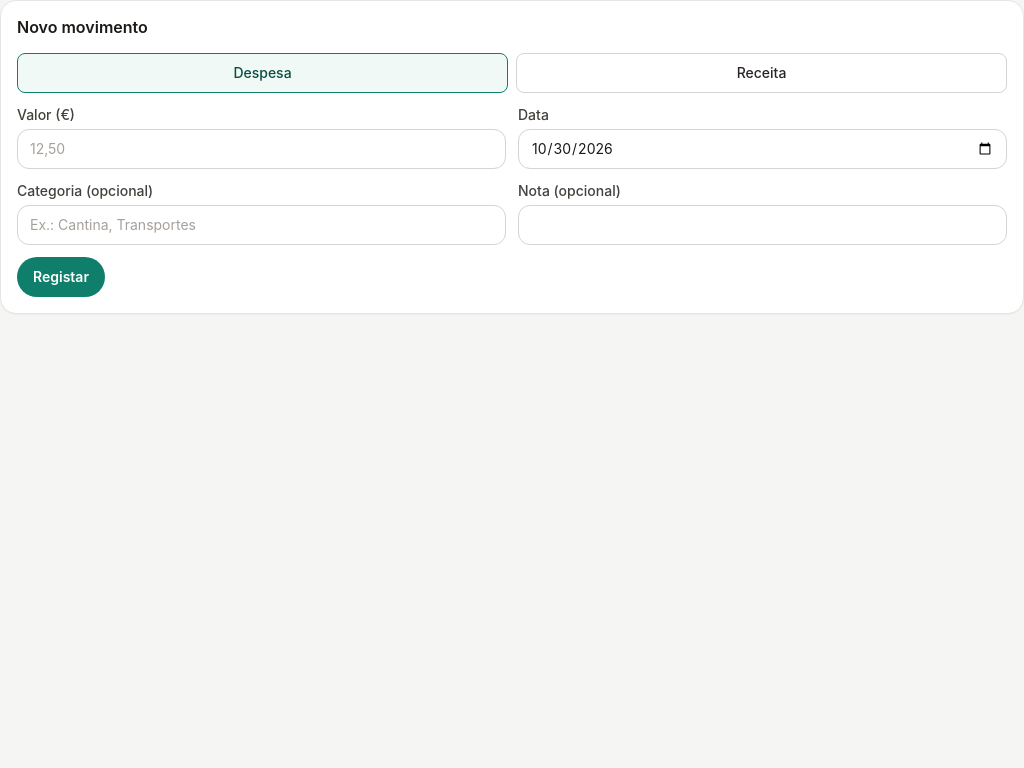
lê «12,5» como 1250 cêntimos e recusa um valor que não é dinheiro
The width and height of the screenshot is (1024, 768).
Type "doze" into the field labelled "Valor (€)" at [262, 149], box x1=17 y1=129 x2=506 y2=169
Click the button "Registar" at [61, 277], box x1=17 y1=257 x2=105 y2=297
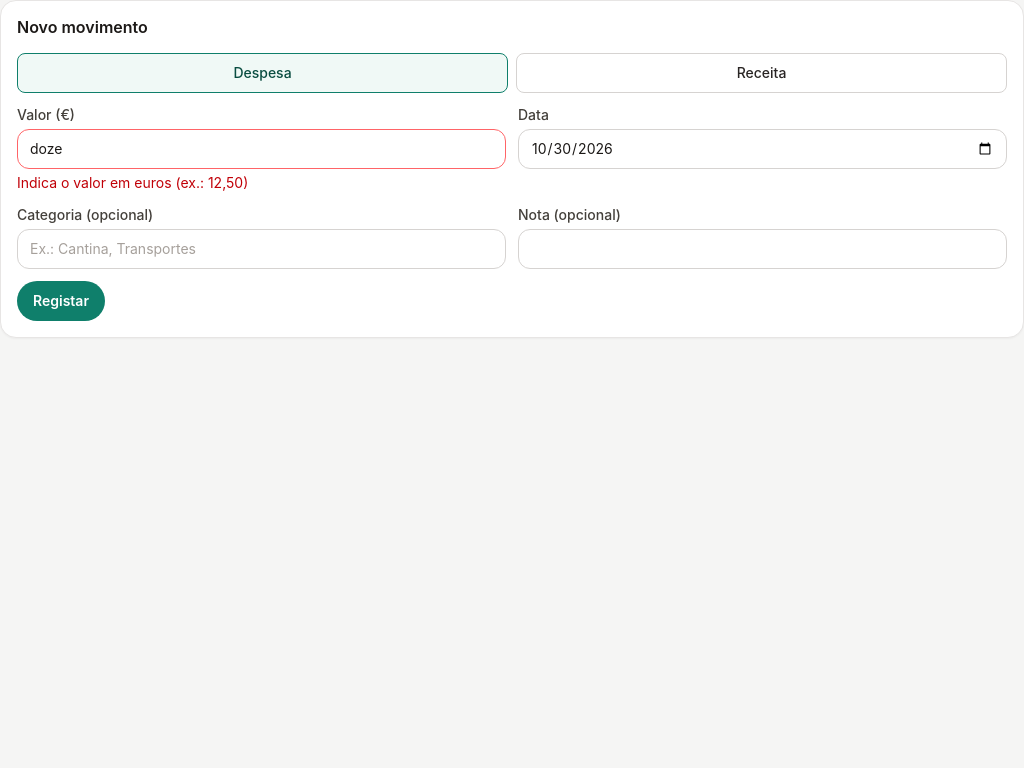
Now the text "Indica o valor em euros (ex.: 12,50)" is shown, box x1=17 y1=174 x2=248 y2=191
Click the radio button labelled "Receita" at [762, 73], box x1=516 y1=53 x2=1007 y2=93
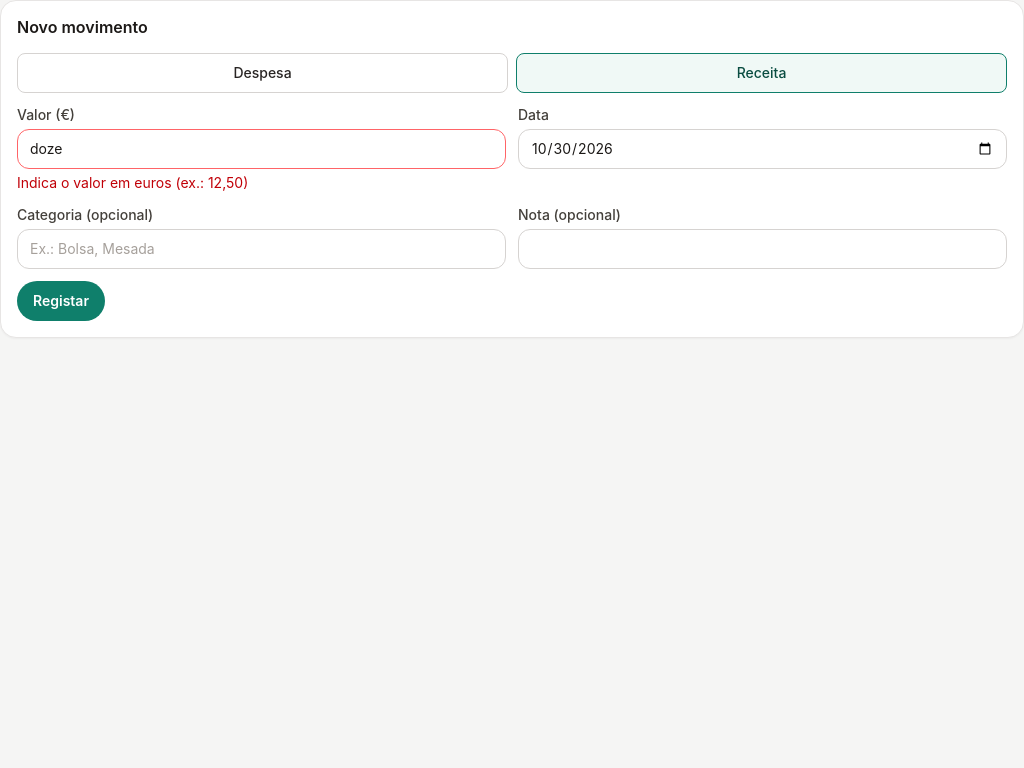
Replace the text in the field labelled "Valor (€)" with "12,5" at [262, 149], box x1=17 y1=129 x2=506 y2=169
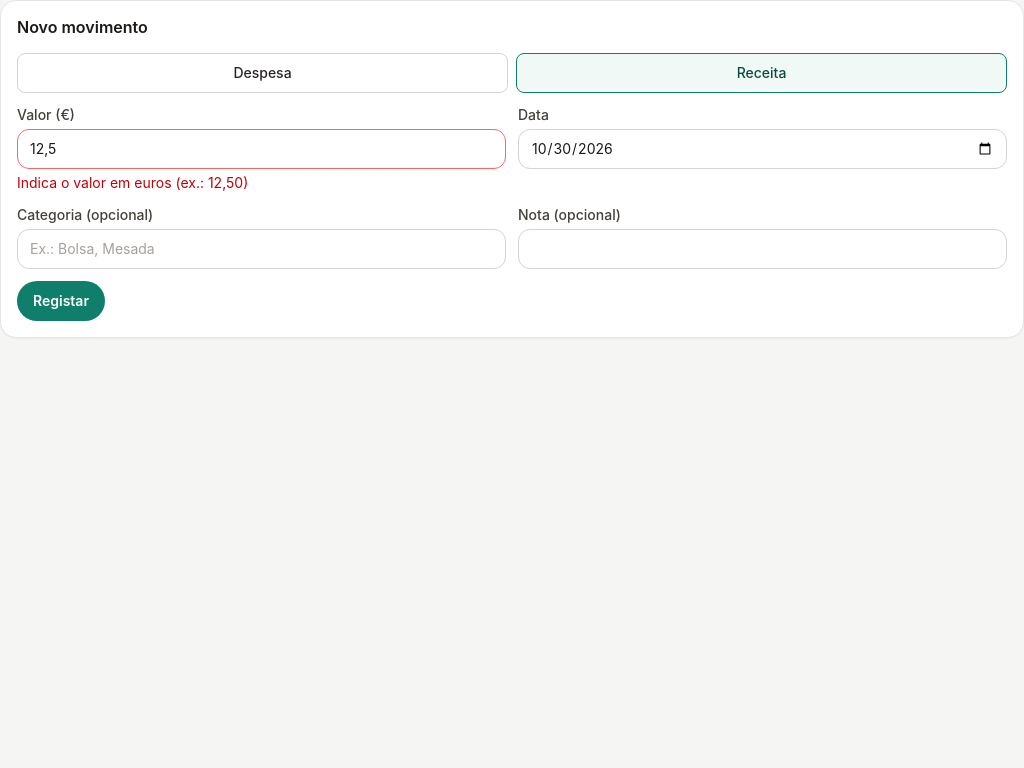
Type "2026-10-20" into the date field labelled "Data" at [762, 149], box x1=518 y1=129 x2=1007 y2=169
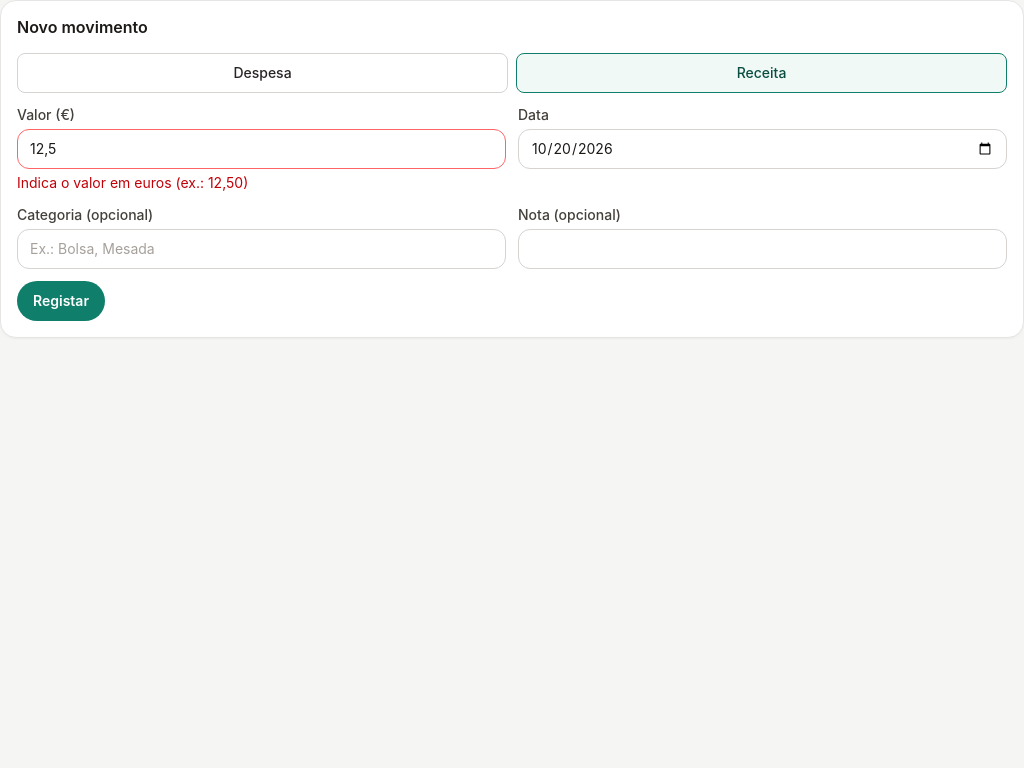
Type " Bolsa " into the field labelled "Categoria (opcional)" at [262, 249], box x1=17 y1=229 x2=506 y2=269
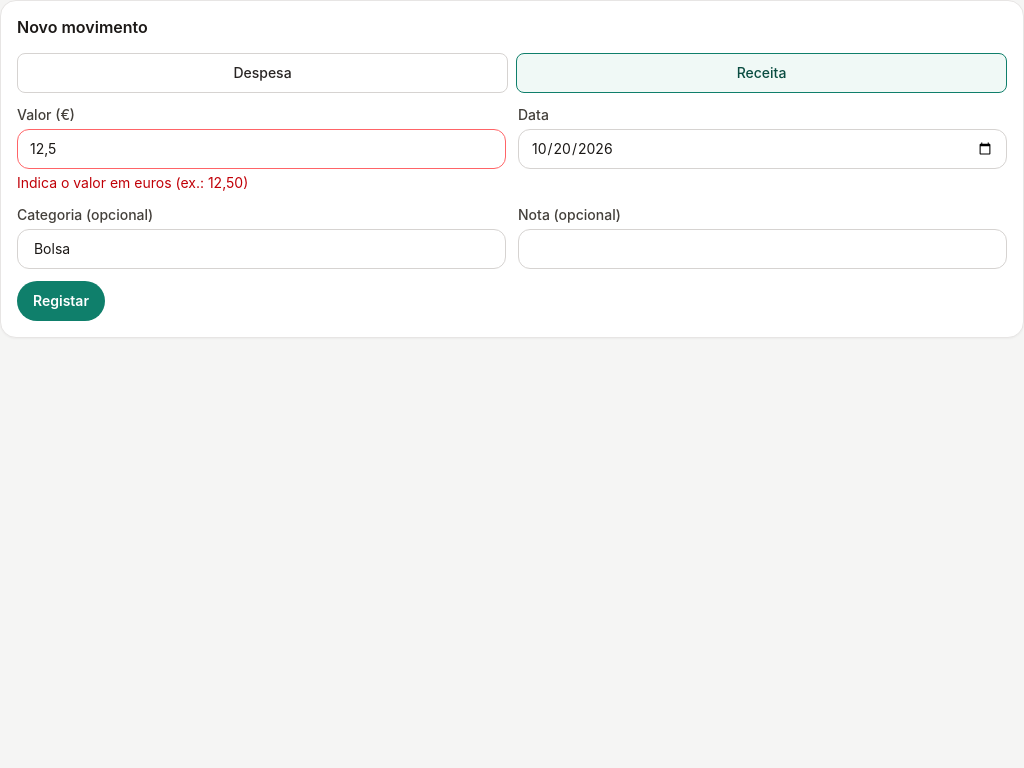
Click the button "Registar" at [61, 301], box x1=17 y1=281 x2=105 y2=321
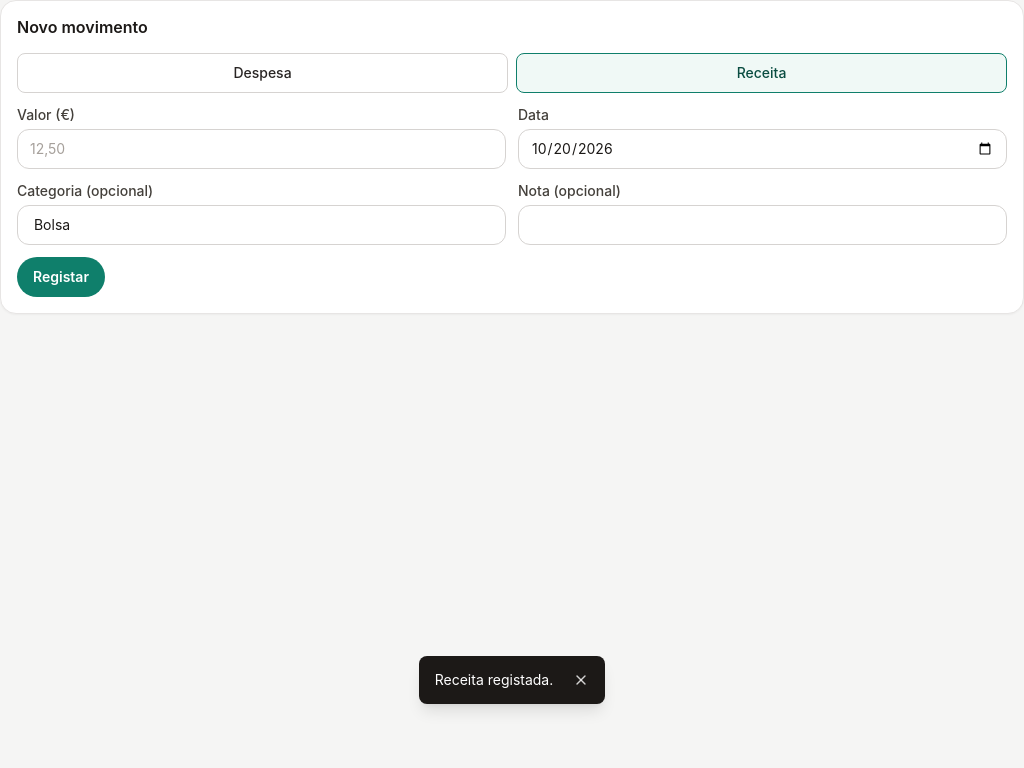
Now the text "Receita registada." is shown, box x1=435 y1=670 x2=553 y2=690
